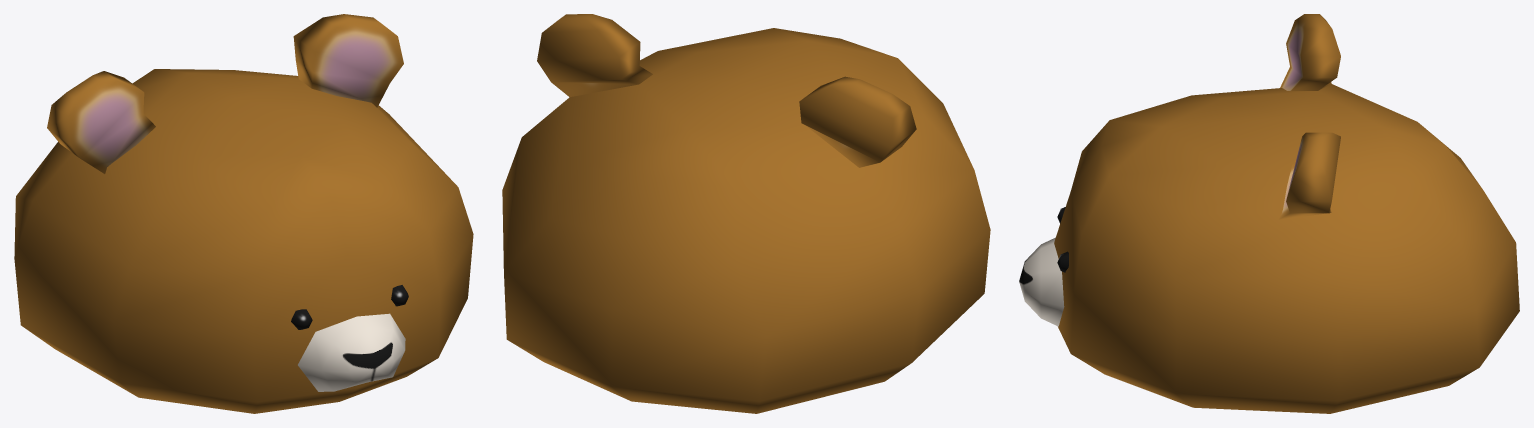
Rendered from bear.fbx.
3 renders of one model, left to right at view 1: azimuth 30°, elevation 25°; view 2: azimuth 150°, elevation 25°; view 3: azimuth 270°, elevation 25°, orthographic. The views are drawn at different scales.
Parts seen in each view (by area): view 1: bear; view 2: bear; view 3: bear.
Part boxes in pixels (box(x1,y1,x2,y2)): bear: box(14, 14, 473, 413); bear: box(502, 14, 990, 413); bear: box(1019, 14, 1519, 413).
Size of the model in its own units: 0.5468 by 0.3575 by 0.6227.
